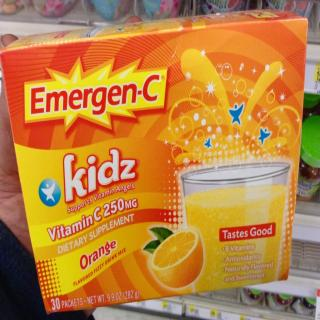Orange: (148, 231, 206, 287)
